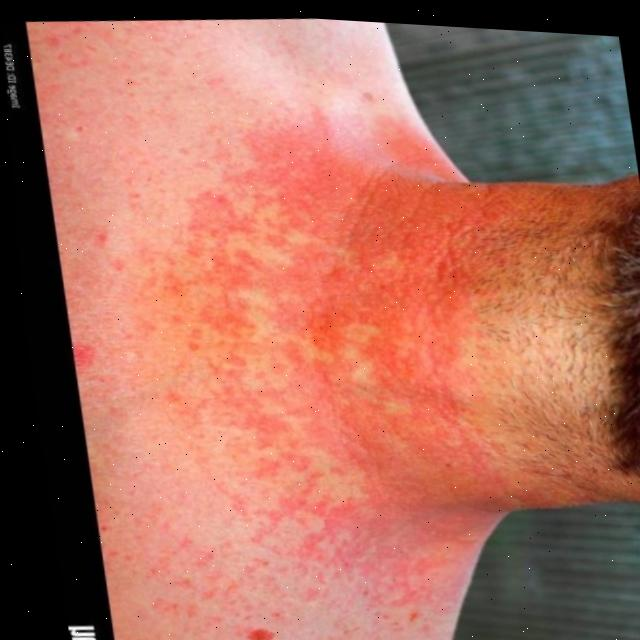Eczema: (184, 111, 529, 640)
